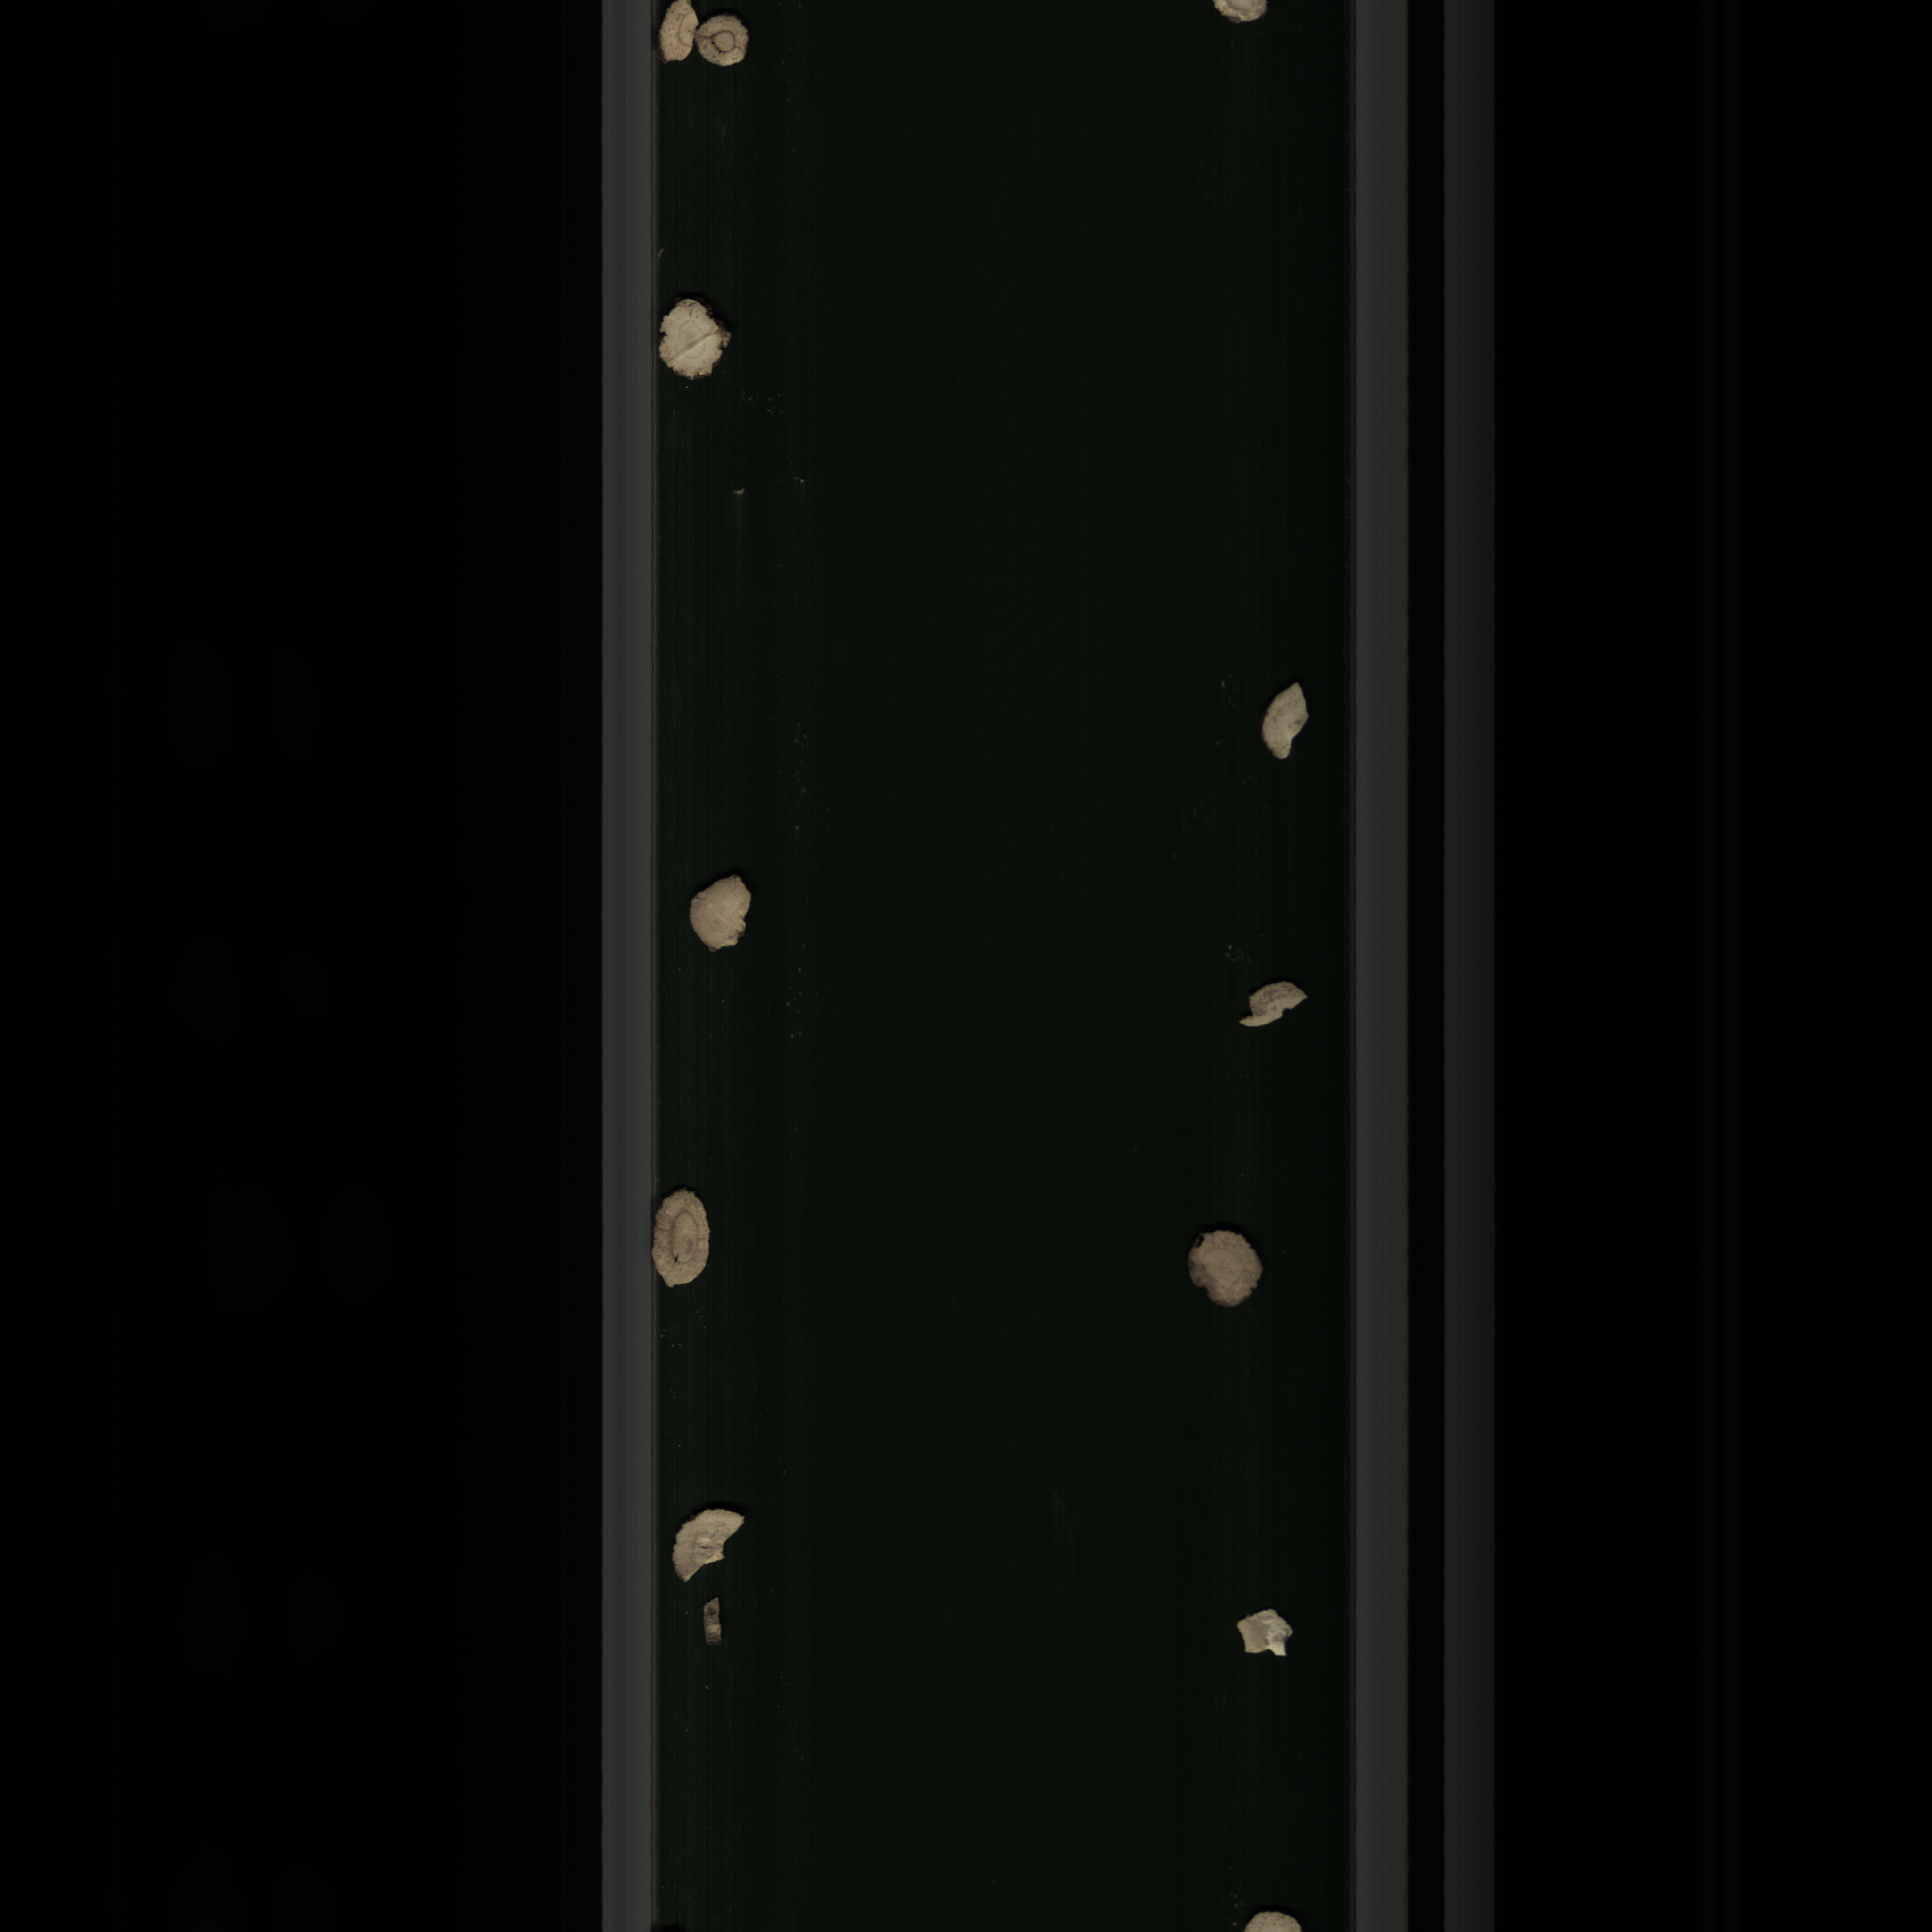bark: (694, 1592, 731, 1656)
debris: (678, 869, 759, 959), (672, 1499, 750, 1591), (1261, 674, 1322, 770), (1223, 1601, 1302, 1667), (1233, 980, 1318, 1040), (655, 0, 704, 90)
distortion: (1182, 1224, 1283, 1325), (658, 294, 731, 386)
moldy: (699, 11, 757, 74)
